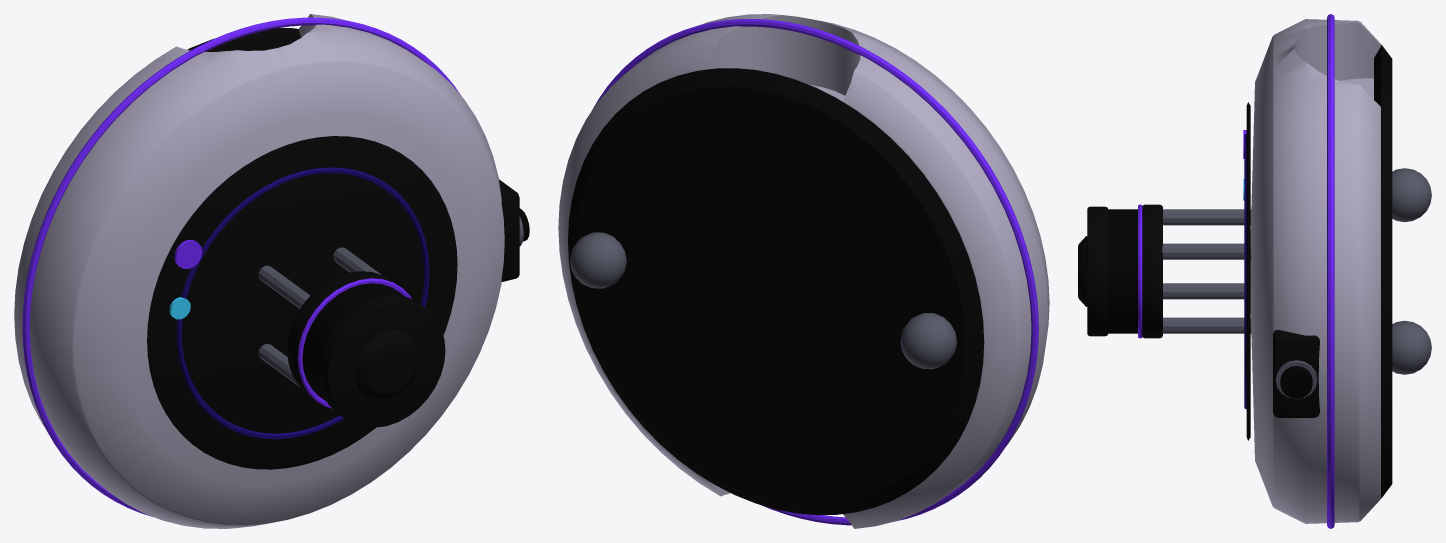
3 renders of one model, left to right at view 1: azimuth 30°, elevation 25°; view 2: azimuth 150°, elevation 25°; view 3: azimuth 270°, elevation 25°, orthographic. The views are drawn at different scales.
Parts seen in each view (by area): view 1: base; view 2: base; view 3: base.
Boxes of the visible parts, x1,y1,x2,y2 form: base: (14,14,529,528); base: (558,14,1049,528); base: (1078,14,1431,528).
Size of the model in its own units: 0.2907 by 0.2854 by 0.196.
